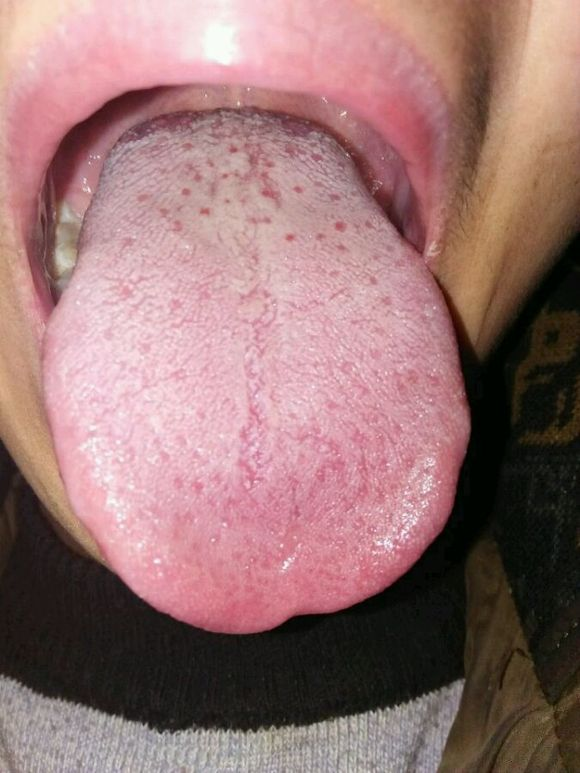baitaishe: (40, 108, 469, 632)
hongdianshe: (331, 218, 349, 235), (282, 228, 298, 247), (226, 141, 240, 155)
